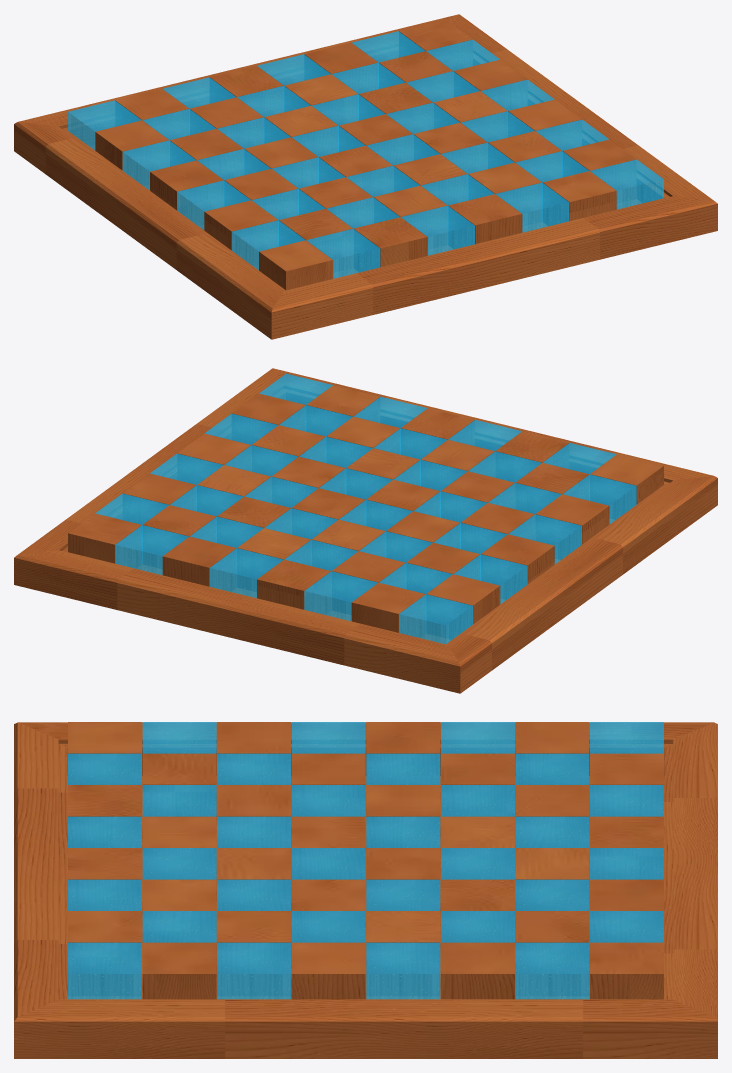
Rendered from azure-lagoon_chessboard.glb.
3 renders of one model, top to bottom at view 1: azimuth 30°, elevation 25°; view 2: azimuth 150°, elevation 25°; view 3: azimuth 270°, elevation 25°, orthographic. The views are drawn at different scales.
Visible parts, largest first — view 1: Frame, a7, a3, a5, e1, g1, c1, b2, h2, d2, f2, a1 (+53 smaller); view 2: Frame, a7, a3, a1, a5, f8, b8, h8, d8, g7, c7, e7 (+53 smaller); view 3: Frame, g5, g7, g1, g3, b2, d2, f2, b4, d4, f4, b6 (+53 smaller).
Boxes of the visible parts, left/top/right/bottom form: Frame: left=14, top=14, right=717, bottom=339; a7: left=95, top=120, right=169, bottom=185; a3: left=204, top=200, right=278, bottom=265; a5: left=150, top=160, right=223, bottom=225; e1: left=448, top=194, right=522, bottom=248; g1: left=542, top=171, right=616, bottom=225; c1: left=354, top=217, right=427, bottom=271; b2: left=279, top=208, right=352, bottom=272; h2: left=562, top=139, right=636, bottom=202; d2: left=373, top=185, right=447, bottom=249; f2: left=468, top=162, right=541, bottom=225; a1: left=259, top=240, right=332, bottom=290; Frame: left=14, top=368, right=717, bottom=693; a7: left=426, top=574, right=500, bottom=639; a3: left=535, top=494, right=609, bottom=559; a1: left=590, top=454, right=663, bottom=519; a5: left=481, top=534, right=554, bottom=599; f8: left=162, top=536, right=236, bottom=591; b8: left=351, top=583, right=425, bottom=637; h8: left=68, top=513, right=141, bottom=568; d8: left=257, top=559, right=330, bottom=614; g7: left=143, top=505, right=216, bottom=568; c7: left=331, top=551, right=405, bottom=614; e7: left=237, top=528, right=310, bottom=591; Frame: left=14, top=722, right=717, bottom=1058; g5: left=366, top=911, right=440, bottom=995; g7: left=515, top=911, right=589, bottom=995; g1: left=68, top=911, right=141, bottom=995; g3: left=217, top=911, right=290, bottom=995; b2: left=142, top=753, right=216, bottom=816; d2: left=142, top=816, right=216, bottom=879; f2: left=142, top=879, right=216, bottom=942; b4: left=291, top=753, right=365, bottom=816; d4: left=291, top=816, right=365, bottom=879; f4: left=291, top=879, right=365, bottom=942; b6: left=441, top=753, right=514, bottom=816.
Size of the model in its own units: 0.472 by 0.046 by 0.472.
Materials: 5 (5 with a texture image).
